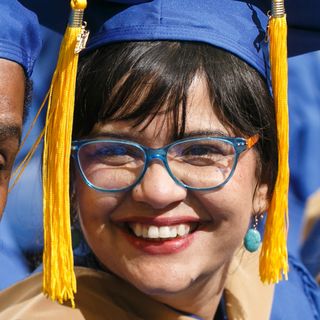eye: (87, 139, 136, 162), (179, 140, 221, 162)
